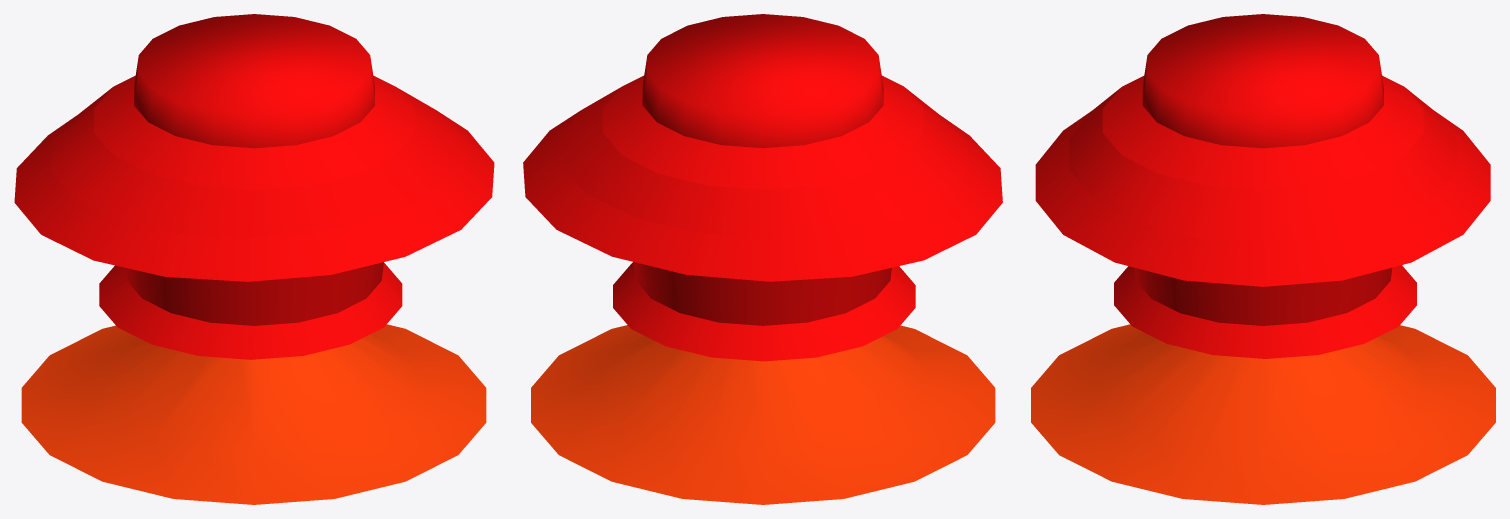
File: Bumper.FBX
3 renders of one model, left to right at view 1: azimuth 30°, elevation 25°; view 2: azimuth 150°, elevation 25°; view 3: azimuth 270°, elevation 25°, orthographic.
Visible parts, largest first — view 1: Cylinder003; view 2: Cylinder003; view 3: Cylinder003.
Part boxes in pixels (x1,y1,x2,y2): Cylinder003: [14, 14, 494, 504]; Cylinder003: [523, 14, 1002, 504]; Cylinder003: [1031, 14, 1495, 504].
Bounding box in the file's own units: 0.6443 × 0.5318 × 0.6078.
